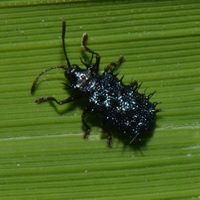insect: (31, 20, 158, 145)
